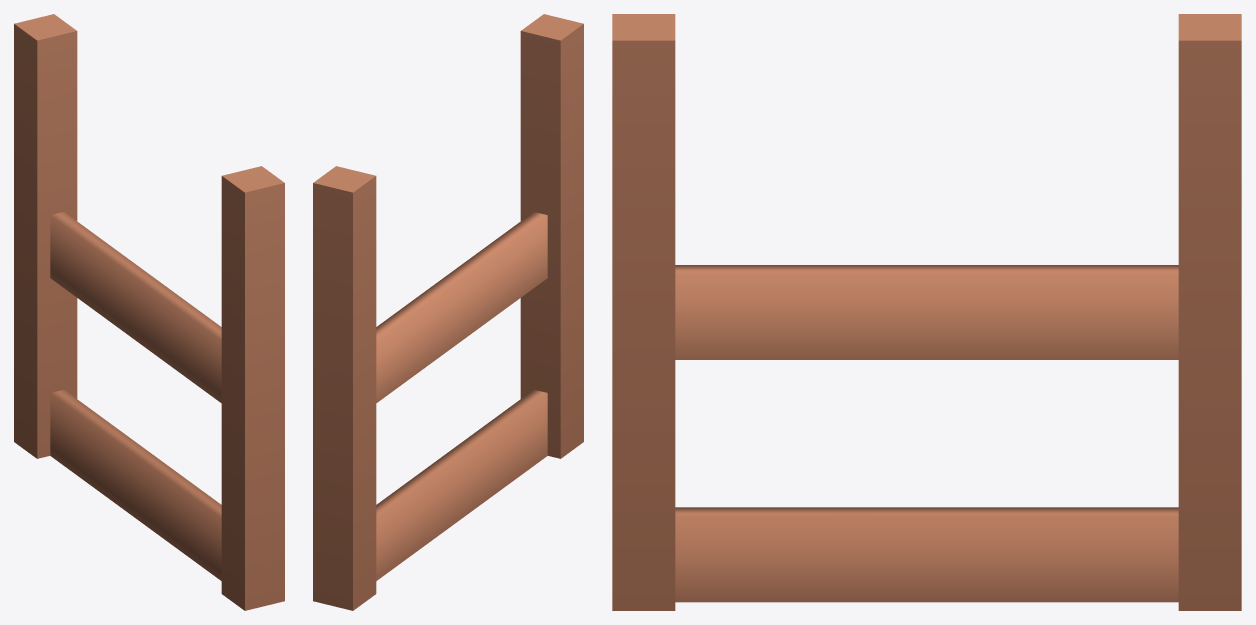
Rendered from poles-horizontal.glb.
3 views of the same model, side by side, from view 1: azimuth 30°, elevation 25°; view 2: azimuth 150°, elevation 25°; view 3: azimuth 270°, elevation 25° (orthographic). The views are drawn at different scales.
Visible parts, largest first — view 1: poles-horizontal; view 2: poles-horizontal; view 3: poles-horizontal.
Boxes of the visible parts, x1,y1,x2,y2 form: poles-horizontal: (14,14,284,610); poles-horizontal: (313,14,583,610); poles-horizontal: (612,14,1241,610).
Size of the model in its own units: 0.1 by 1 by 1.
1 material, 1 textured.
